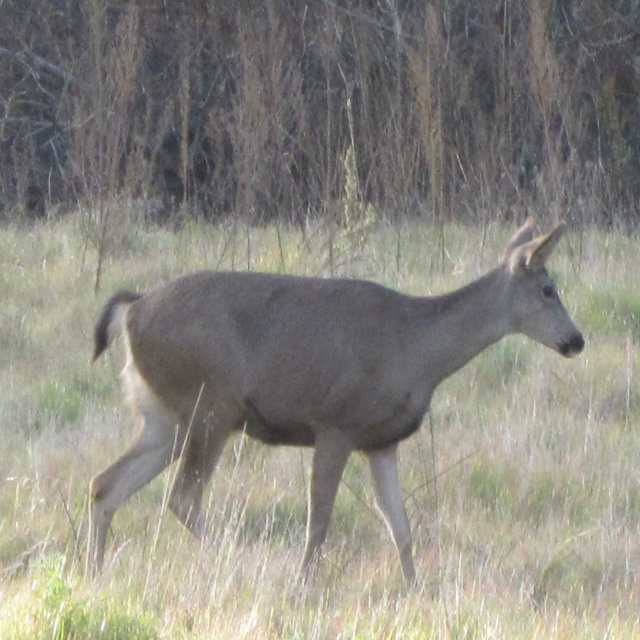Deer: (89, 213, 582, 591)
